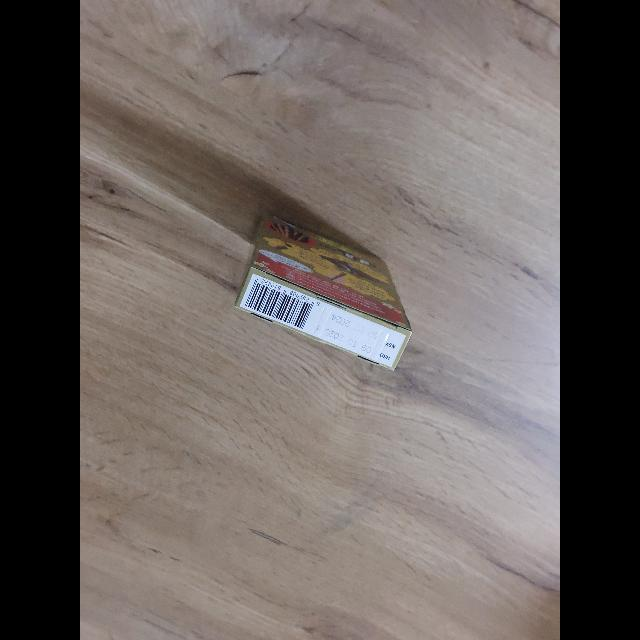banh_toppo_socola: (235, 215, 412, 369)
